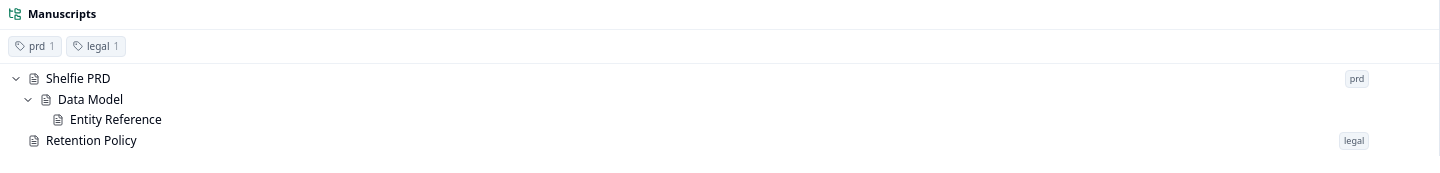
Test: ScribePageTree › collapses and re-expands a branch
Expected: the text "Shelfie PRD" is shown, left=46, top=70, right=110, bottom=86
Click the button named "Collapse Shelfie PRD": click(16, 78) left=8, top=70, right=24, bottom=86
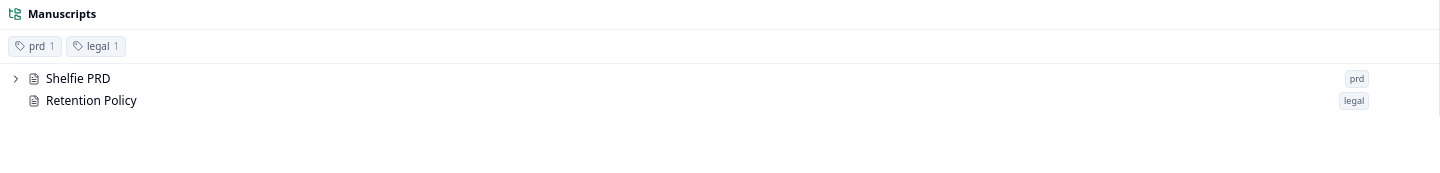
Expected: the button "Data Model" is gone
Click the button named "Expand Shelfie PRD": click(16, 78) left=8, top=70, right=24, bottom=86
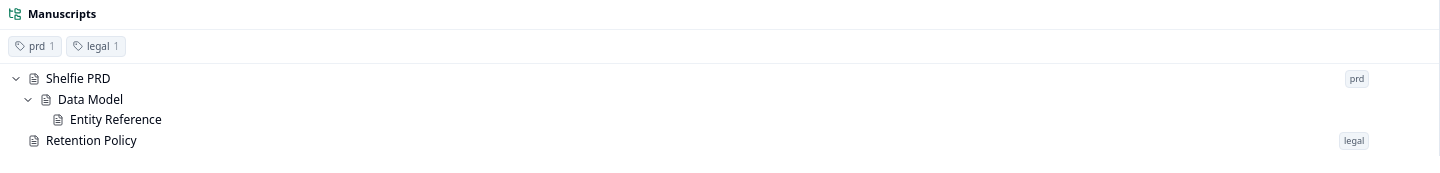
Expected: the text "Data Model" is shown, left=58, top=92, right=123, bottom=108
